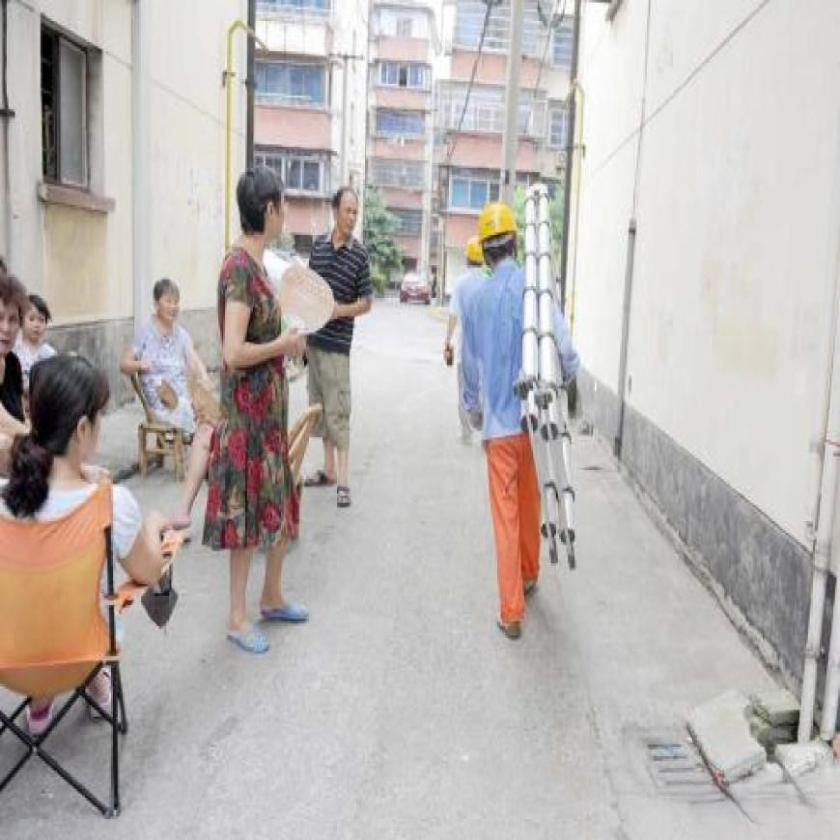Sin_casco: (31, 352, 109, 468), (231, 161, 288, 251), (0, 278, 25, 365), (18, 294, 52, 347), (152, 276, 182, 328), (331, 185, 357, 240)
